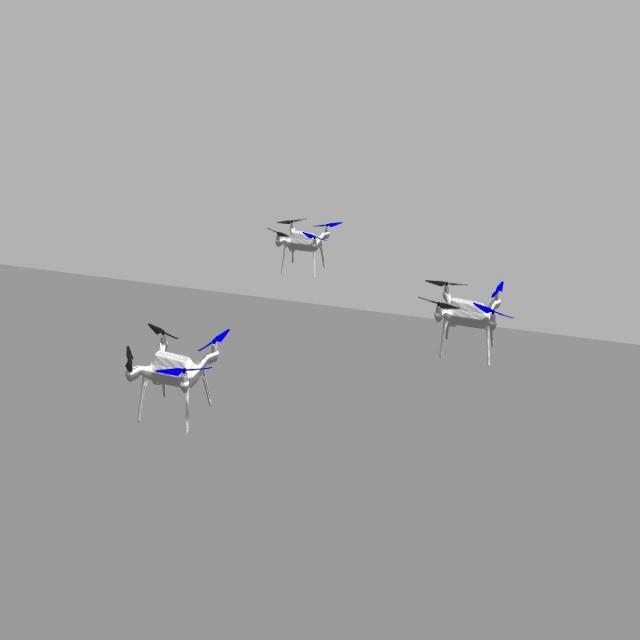Drone: (265, 200, 342, 280)
